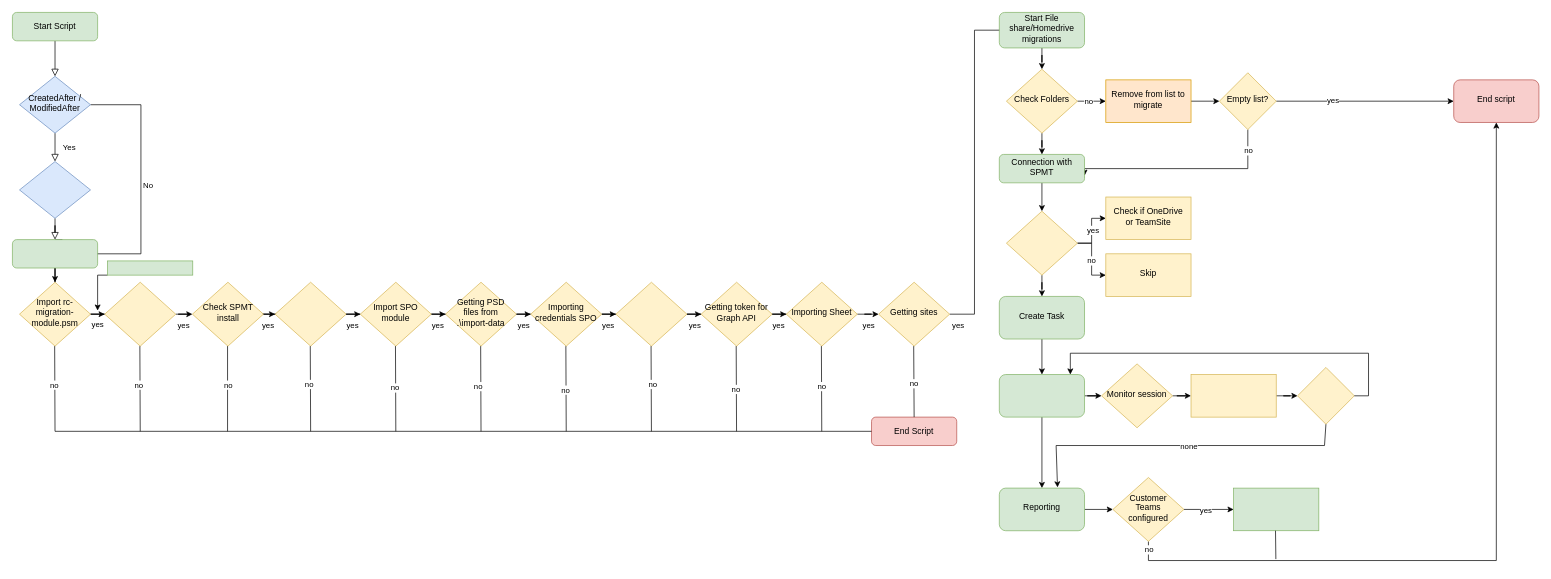
The diagram is 1551 pixels wide and 579 high, and some of its shapes have lost their labels. The centre of each missing label's shape, as x and y in pixels:
"Check elevated permissions powershell" goes at pixel 140 314.
"Check Failed tasks" goes at pixel 1325 395.
"Finished" goes at pixel 1233 395.
"Getting Sharepoint webURL" goes at pixel 1041 243.
"Import modules from .\Modules" goes at pixel 310 314.
"Importing connection detals xml" goes at pixel 651 314.
"Set variables" goes at pixel 55 189.
"Start Checks" goes at pixel 55 253.
"Start logging in .\log" goes at pixel 150 267.
"Start Migration" goes at pixel 1042 395.
"Upload to teams and send email to channel" goes at pixel 1276 509.
